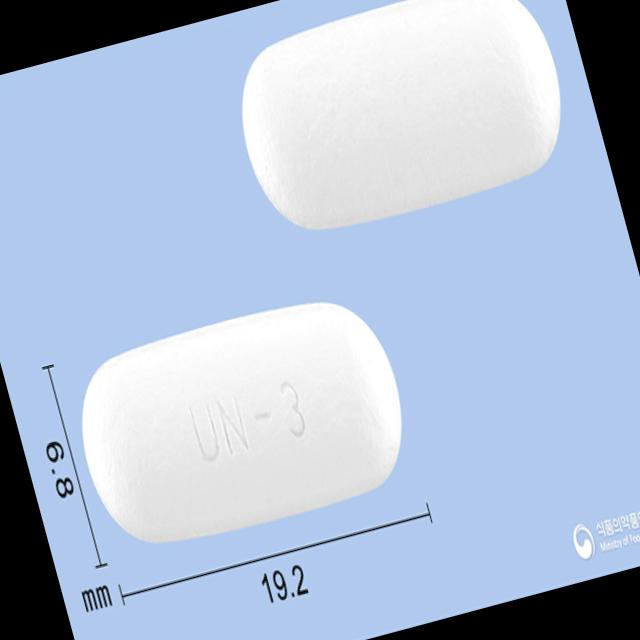Unasyn Tab: (59, 285, 422, 563)
